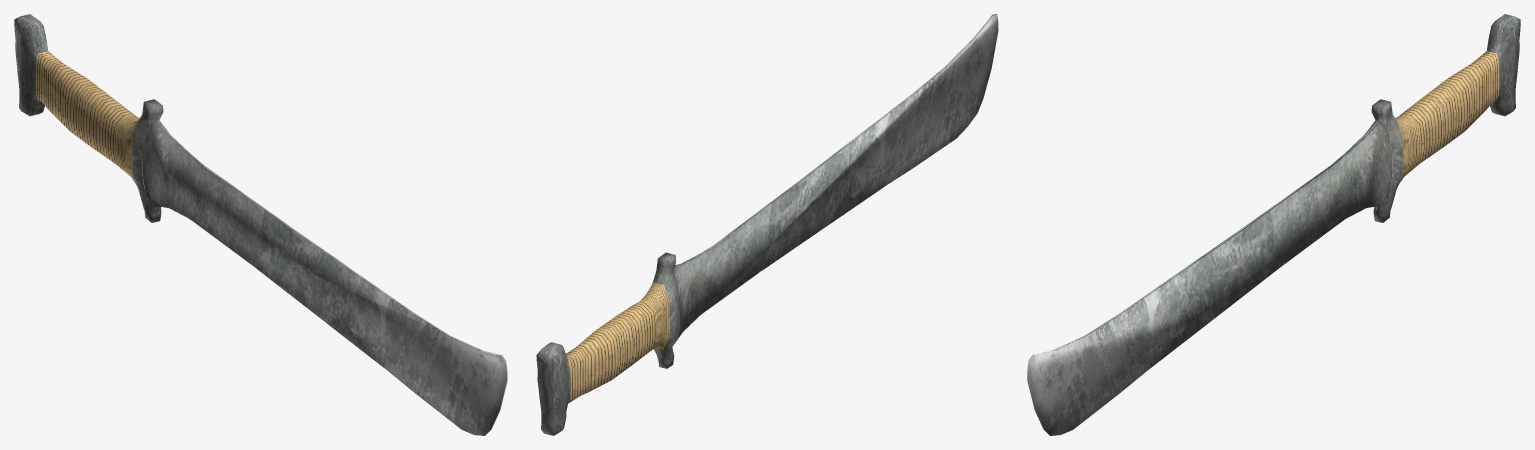
The model's file is machete.obj.
3 renders of one model, left to right at view 1: azimuth 30°, elevation 25°; view 2: azimuth 150°, elevation 25°; view 3: azimuth 330°, elevation 25°, orthographic. The views are drawn at different scales.
Parts seen in each view (by area): view 1: Cube; view 2: Cube; view 3: Cube.
Boxes of the visible parts, bbox=[...] form: Cube: bbox=[14, 14, 507, 435]; Cube: bbox=[536, 14, 998, 435]; Cube: bbox=[1027, 14, 1520, 435].
Size of the model in its own units: 0.3385 by 1.4 by 10.27.
